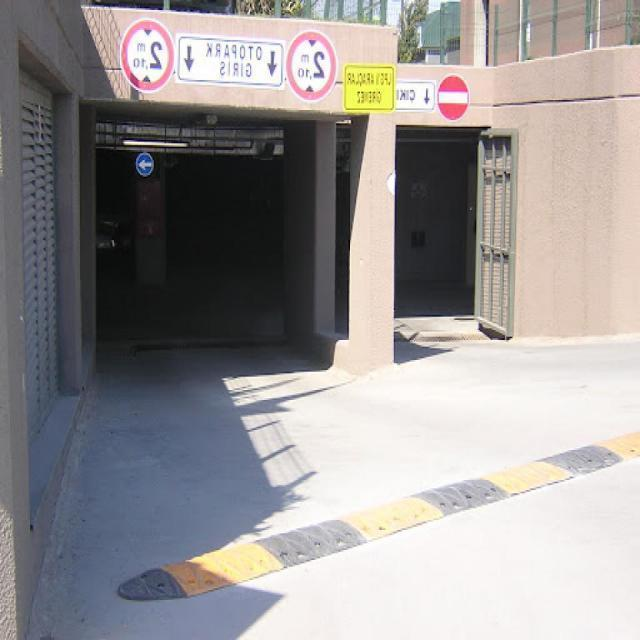speedbreaker: (110, 414, 640, 608)
